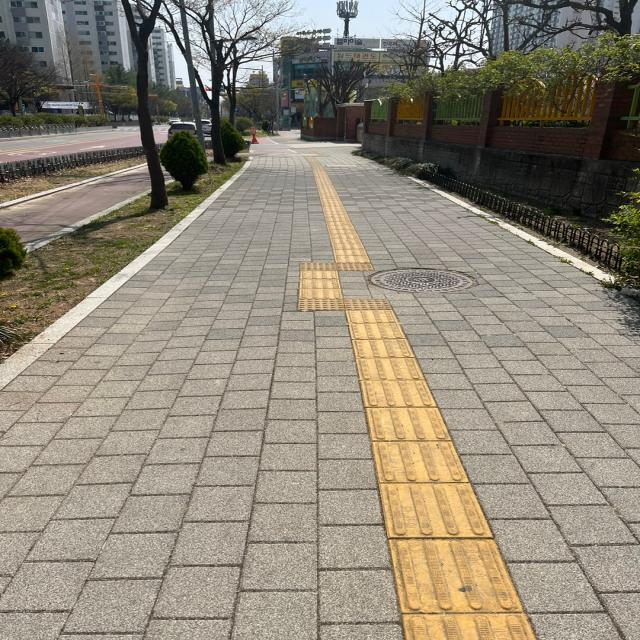Sewer Cover: (369, 262, 497, 303)
